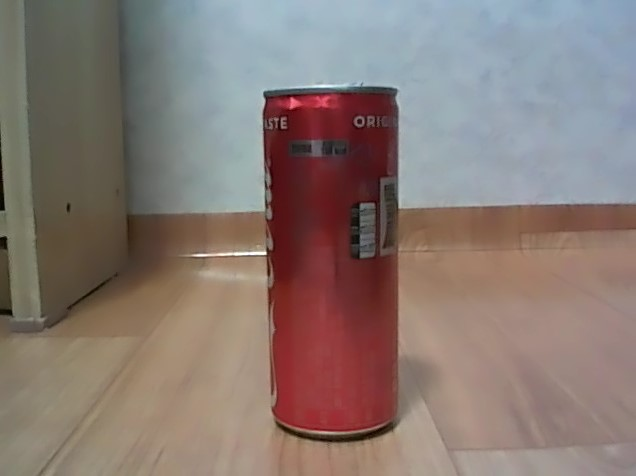Can: (255, 77, 407, 446)
